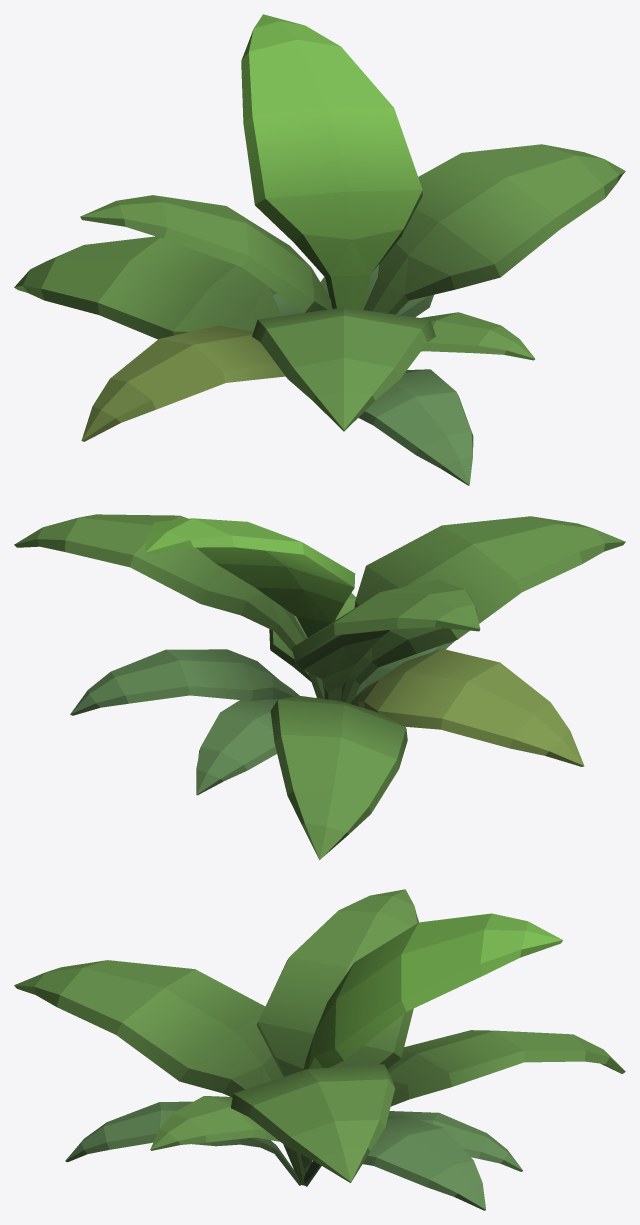
File: ShrubShort-03.FBX
The picture shows the model from 3 angles, top to bottom: view 1: azimuth 30°, elevation 25°; view 2: azimuth 150°, elevation 25°; view 3: azimuth 270°, elevation 25°; orthographic projection. The views are drawn at different scales.
Parts seen in each view (by area): view 1: ShrubShort-03; view 2: ShrubShort-03; view 3: ShrubShort-03.
Part boxes in pixels (left/top/right/bottom): ShrubShort-03: left=14, top=14, right=625, bottom=485; ShrubShort-03: left=14, top=514, right=625, bottom=860; ShrubShort-03: left=14, top=889, right=625, bottom=1210.
Bounding box in the file's own units: 139 × 69.12 × 137.
Materials: 1 (1 with a texture image).
